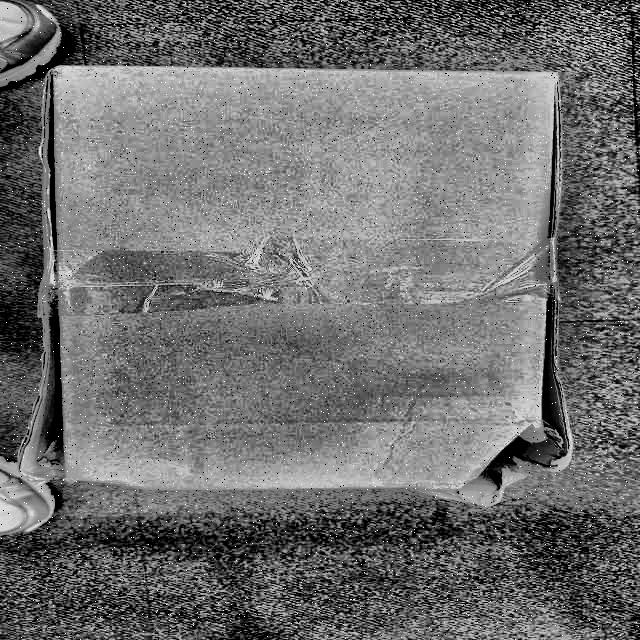box: (3, 61, 592, 514)
hole: (448, 432, 552, 488)
